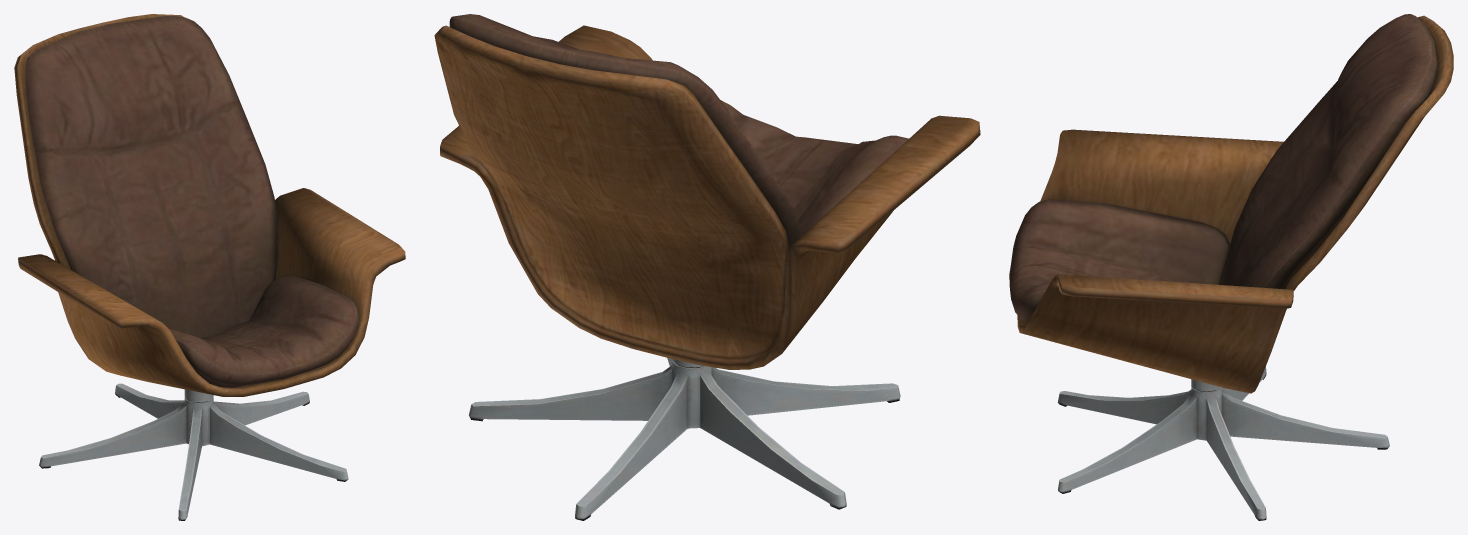
The model's file is lounge_chair.glb.
3 views of the same model, side by side, from view 1: azimuth 30°, elevation 25°; view 2: azimuth 150°, elevation 25°; view 3: azimuth 270°, elevation 25° (orthographic). The views are drawn at different scales.
Visible parts, largest first — view 1: mid_century_lounge_chair; view 2: mid_century_lounge_chair; view 3: mid_century_lounge_chair.
Part boxes in pixels (box(x1,y1,x2,y2)): mid_century_lounge_chair: box(14, 14, 405, 520); mid_century_lounge_chair: box(434, 14, 980, 520); mid_century_lounge_chair: box(1009, 14, 1453, 520).
Bounding box in the file's own units: 1.01 × 1.17 × 1.19.
1 material, 1 textured.
